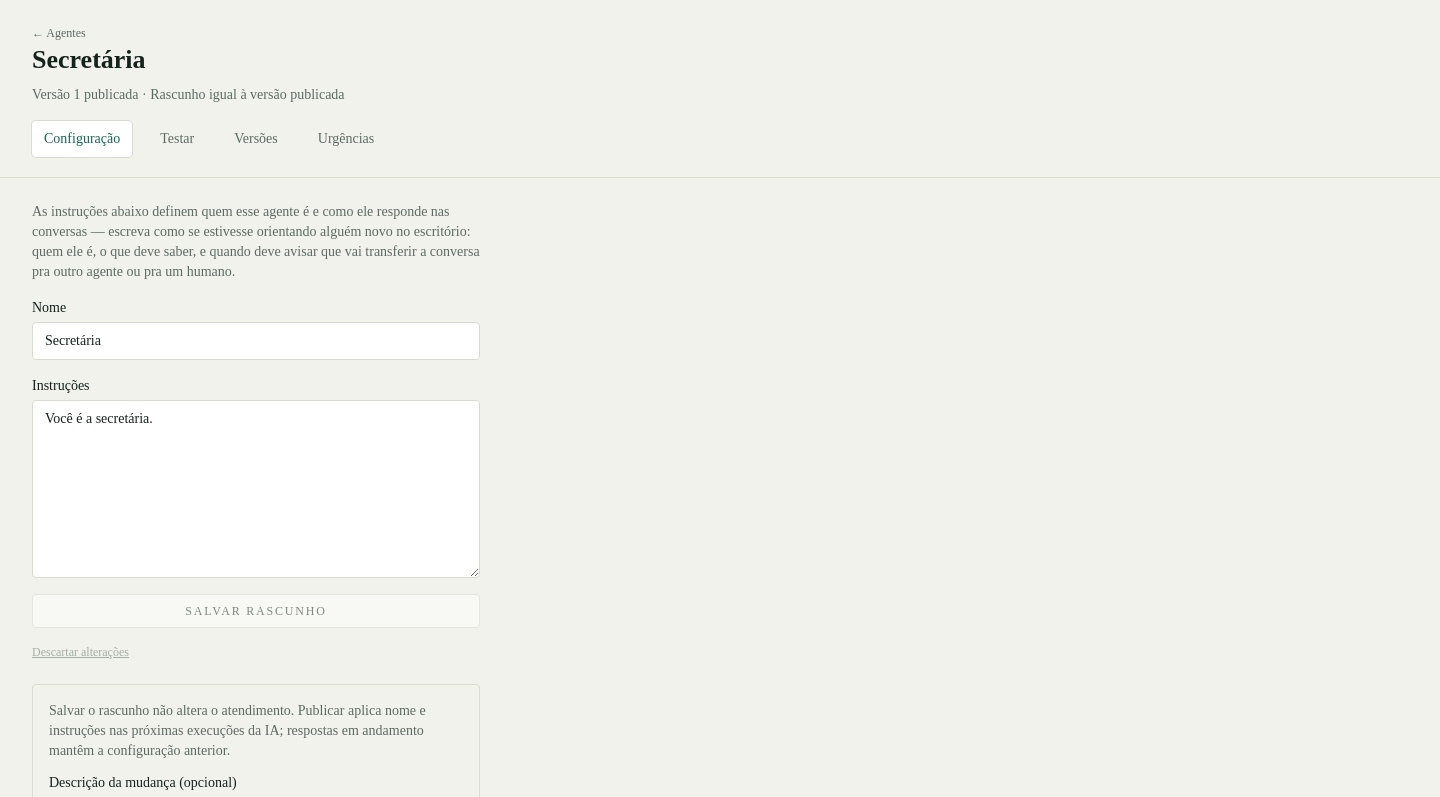
Test: AgentDetail › abre a configuração de urgências dentro do agente
Expected: the field showing "Secretária" is shown, [32, 322, 480, 360]
Click the button "Urgências" at (346,138), box [306, 120, 386, 156]
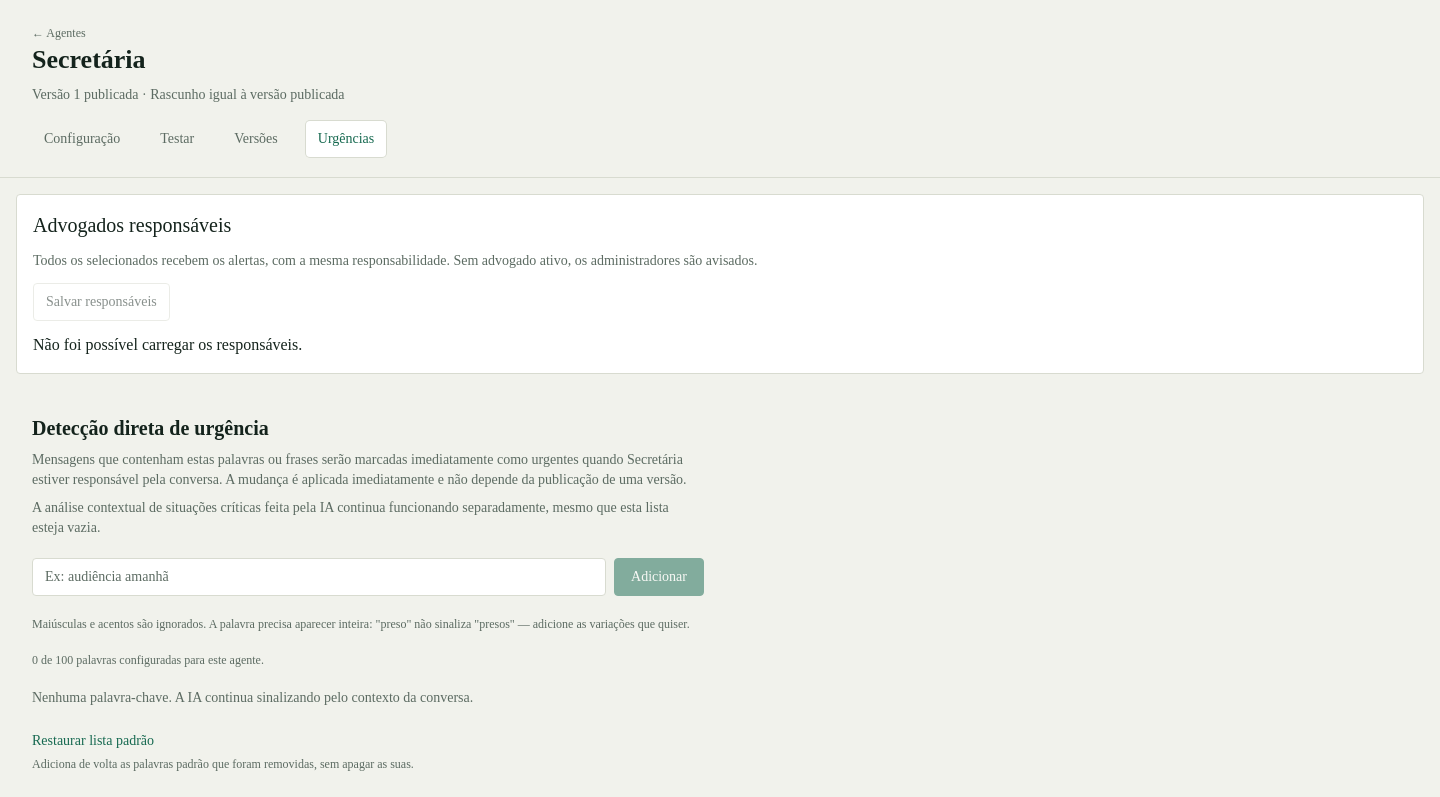
Expected: the heading "Detecção direta de urgência" is shown, [32, 416, 269, 438]
